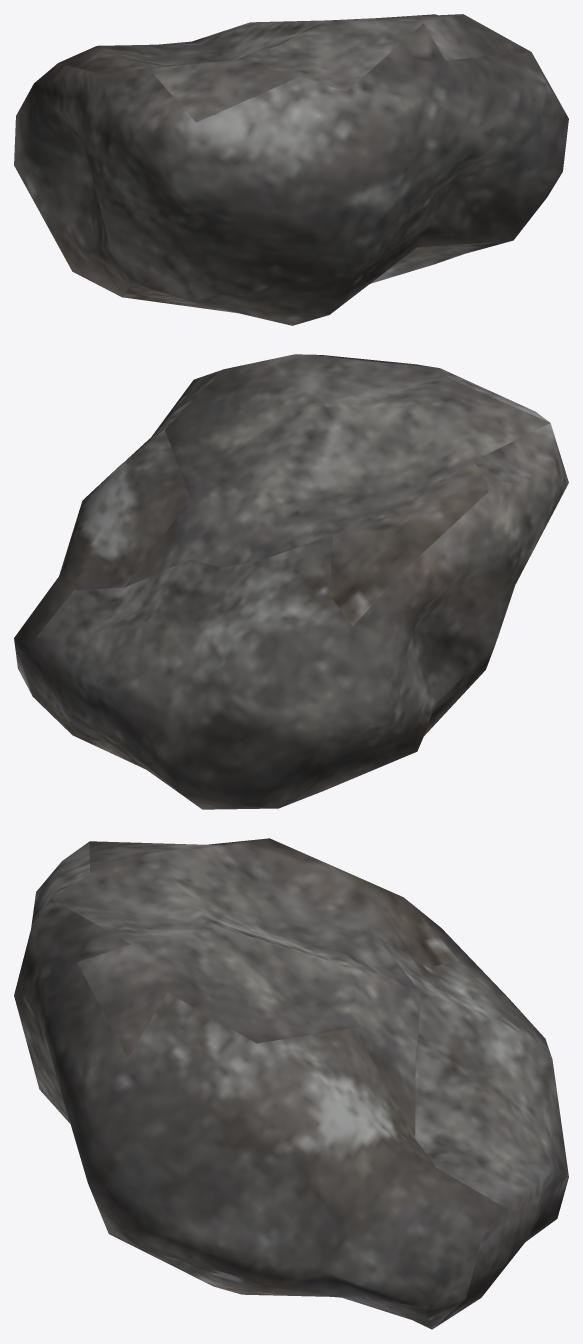
The model's file is N_Rock_16.fbx.
3 renders of one model, top to bottom at view 1: azimuth 30°, elevation 25°; view 2: azimuth 150°, elevation 25°; view 3: azimuth 270°, elevation 25°, orthographic. The views are drawn at different scales.
Visible parts, largest first — view 1: Mid_Rock_2; view 2: Mid_Rock_2; view 3: Mid_Rock_2.
Boxes of the visible parts, left/top/right/bottom form: Mid_Rock_2: left=14, top=14, right=568, bottom=325; Mid_Rock_2: left=14, top=354, right=568, bottom=809; Mid_Rock_2: left=14, top=838, right=568, bottom=1329.
Size of the model in its own units: 163 by 115 by 163.
